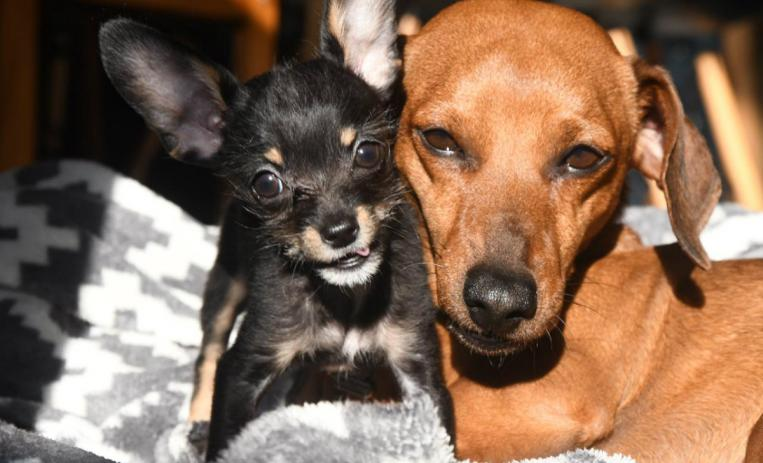dog: (102, 9, 411, 418), (406, 10, 679, 405)
